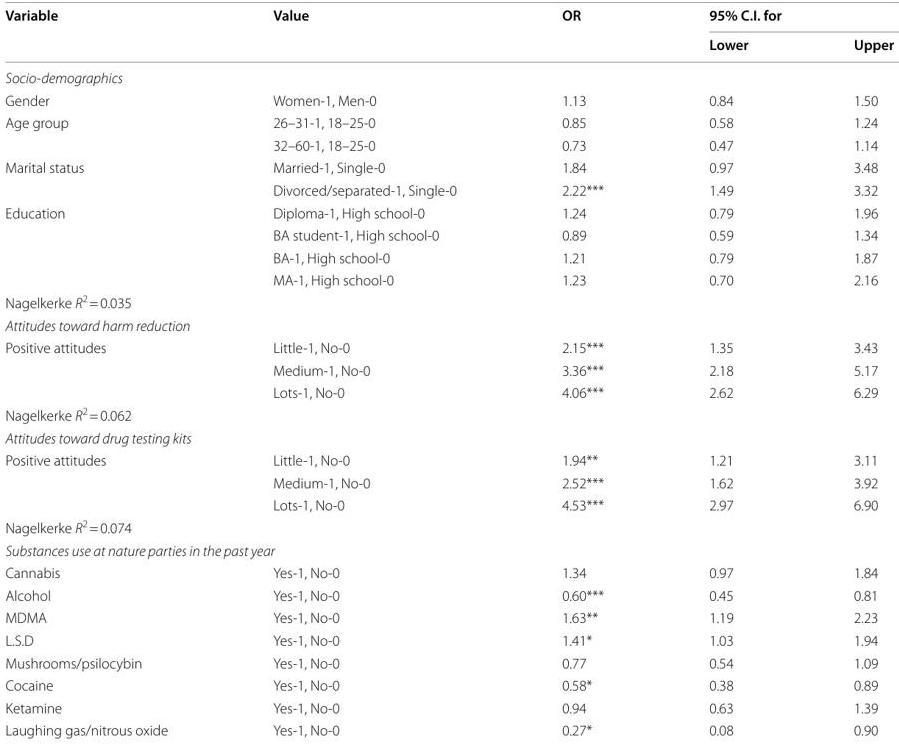table: (4, 5, 893, 738)
table column: (220, 5, 508, 738), (4, 5, 220, 738), (508, 5, 655, 738), (655, 5, 800, 738), (800, 5, 893, 738)
table column header: (4, 5, 893, 61)
table projected row header: (4, 61, 893, 88), (4, 290, 893, 314), (4, 402, 893, 426), (4, 515, 893, 539), (4, 426, 893, 449), (4, 314, 893, 336), (4, 539, 893, 561)
table row: (4, 29, 893, 61), (4, 61, 893, 88), (4, 5, 893, 29), (4, 290, 893, 314), (4, 402, 893, 426), (4, 515, 893, 539), (4, 88, 893, 111), (4, 133, 893, 156), (4, 178, 893, 201), (4, 223, 893, 246), (4, 358, 893, 381), (4, 426, 893, 449), (4, 471, 893, 494), (4, 561, 893, 584), (4, 606, 893, 629), (4, 651, 893, 674), (4, 111, 893, 133), (4, 156, 893, 178), (4, 201, 893, 223), (4, 246, 893, 268), (4, 268, 893, 290), (4, 314, 893, 336), (4, 336, 893, 358), (4, 449, 893, 471), (4, 539, 893, 561), (4, 584, 893, 606), (4, 629, 893, 651), (4, 674, 893, 696), (4, 696, 893, 718), (4, 381, 893, 402), (4, 494, 893, 515), (4, 718, 893, 738)
table spanning cell: (4, 201, 220, 290), (220, 5, 508, 61), (4, 336, 220, 402), (4, 449, 220, 515), (4, 5, 220, 61), (4, 111, 220, 156), (4, 156, 220, 201), (508, 5, 655, 61), (655, 5, 893, 29)
